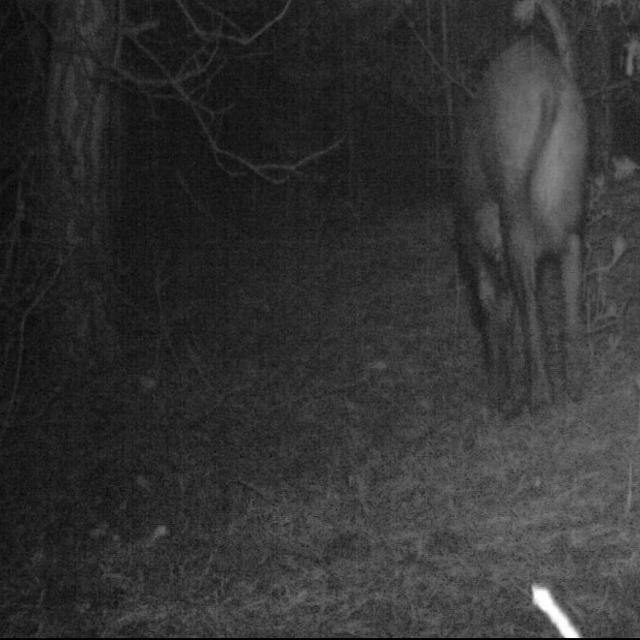pig: (443, 23, 597, 409)
